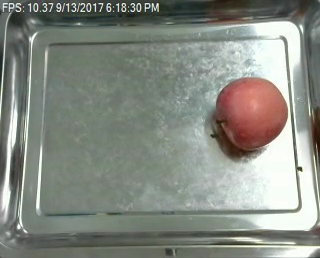Apple: (211, 77, 292, 152)
